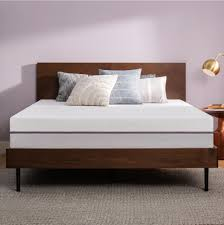bed-matress: (8, 97, 215, 149)
